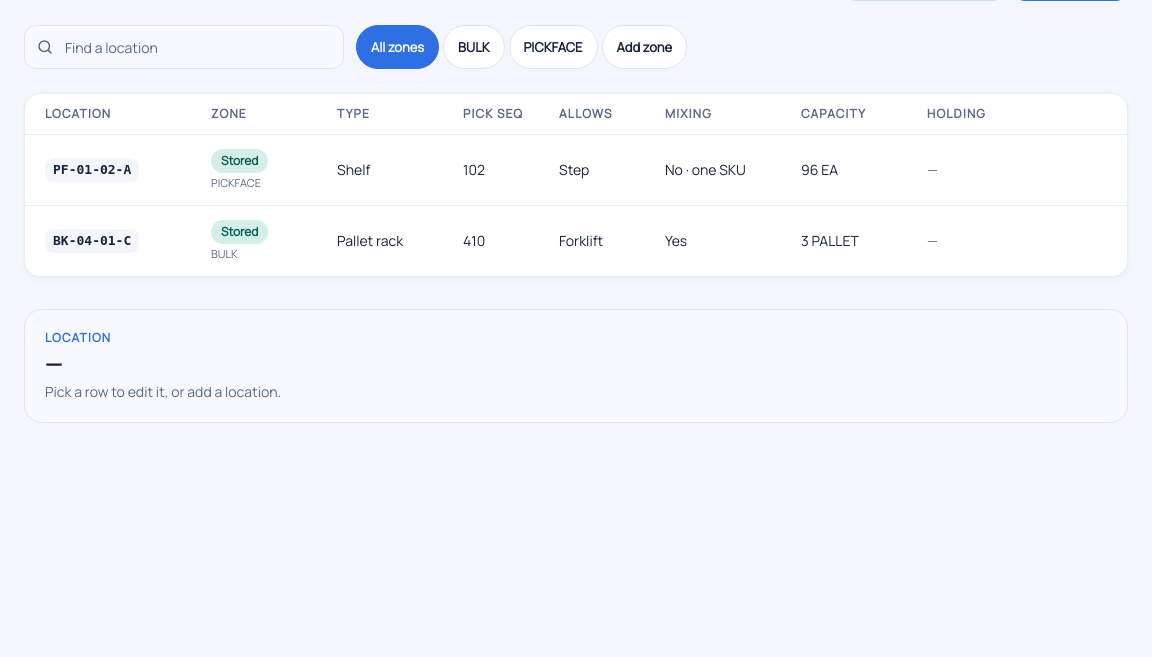
Locations › opens a row in the panel and loads what it holds
This screenshot has width=1152, height=657.
Click the text "PF-01-02-A" at [92, 170], box [45,158,139,182]
(page scrolled)
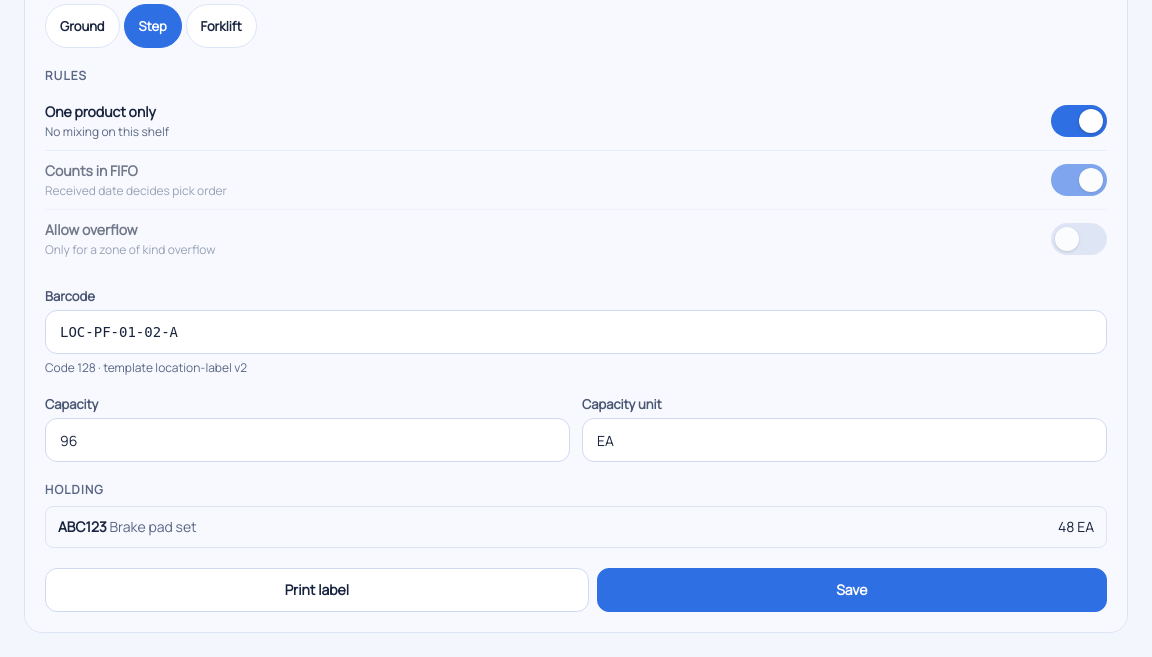
Result: the switch named "One product only" in the row of "No mixing on this shelf" is checked at [1051,105,1107,137]
Result: the switch named "Counts in FIFO" in the row of "Received date decides pick order" is disabled at [1051,164,1107,196]
Result: the field labelled "Barcode Code 128 · template location-label v2" holds "LOC-PF-01-02-A" at [45,310,1107,354]
